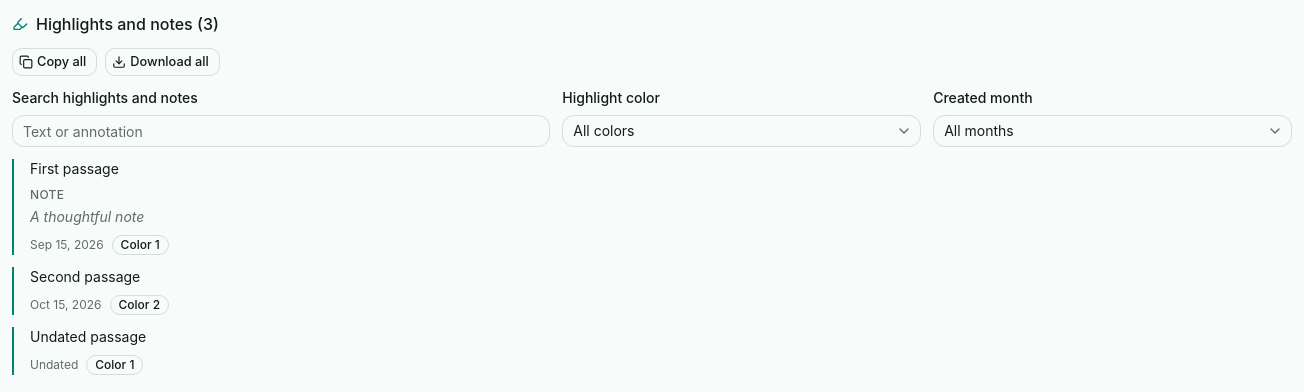
searches annotations and combines color and month filters
In the field labelled "Search highlights and notes": (281, 131) [12, 115, 550, 147], type "THOUGHTFUL"
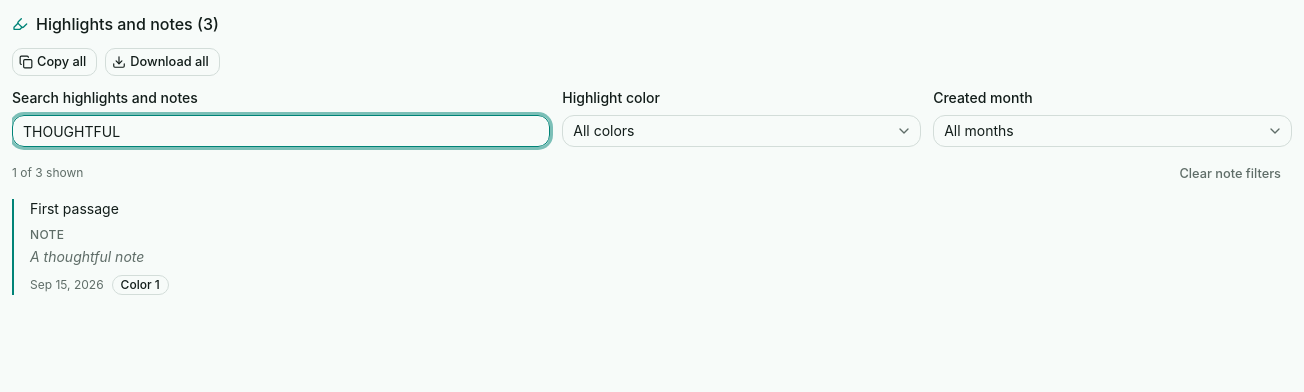
Expected: the text "First passage" is shown, [30, 200, 119, 217]
Now the text "Second passage" is gone
Now the text "1 of 3 shown" is shown, box [12, 165, 83, 181]
Click the button "Clear note filters": click(1230, 173) [1168, 159, 1292, 187]
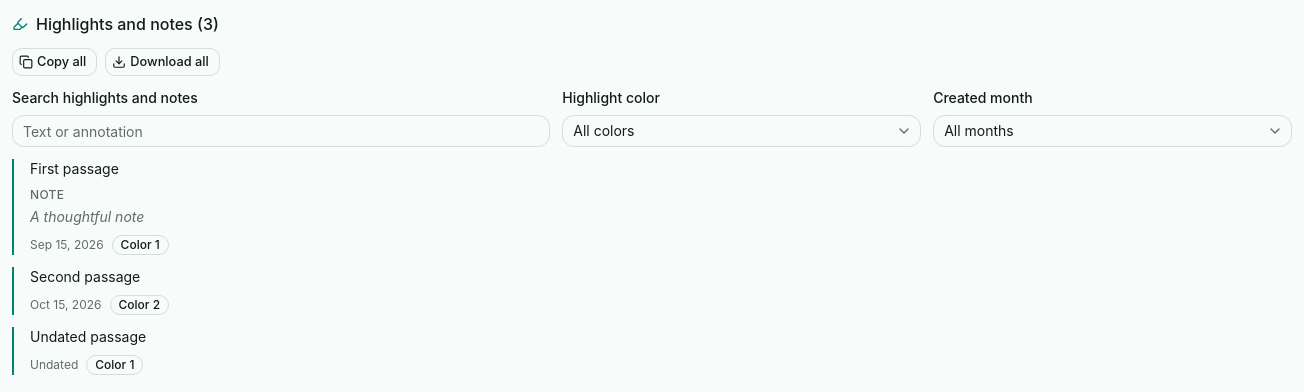
Now the text "Second passage" is shown, box [30, 268, 140, 285]
Click the dropdown named "Highlight color": click(604, 131) [562, 115, 921, 147]
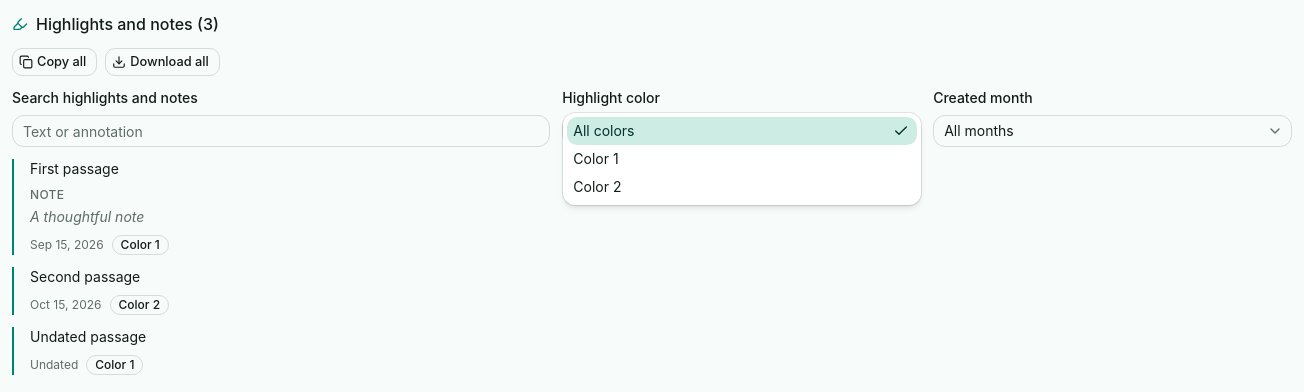
Click the option "Color 1": click(596, 159) [573, 150, 619, 167]
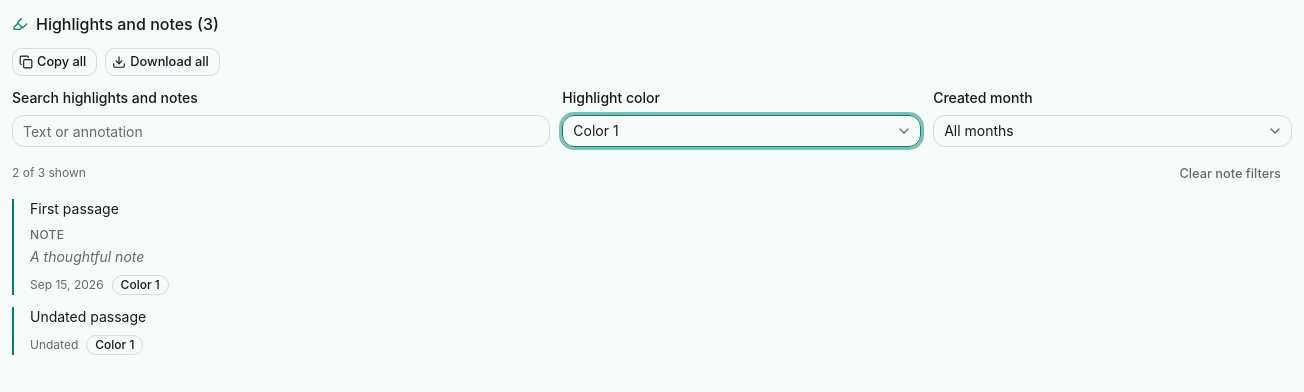
Now the text "2 of 3 shown" is shown, box [12, 165, 86, 181]
Click the dropdown named "Created month": click(979, 131) [933, 115, 1292, 147]
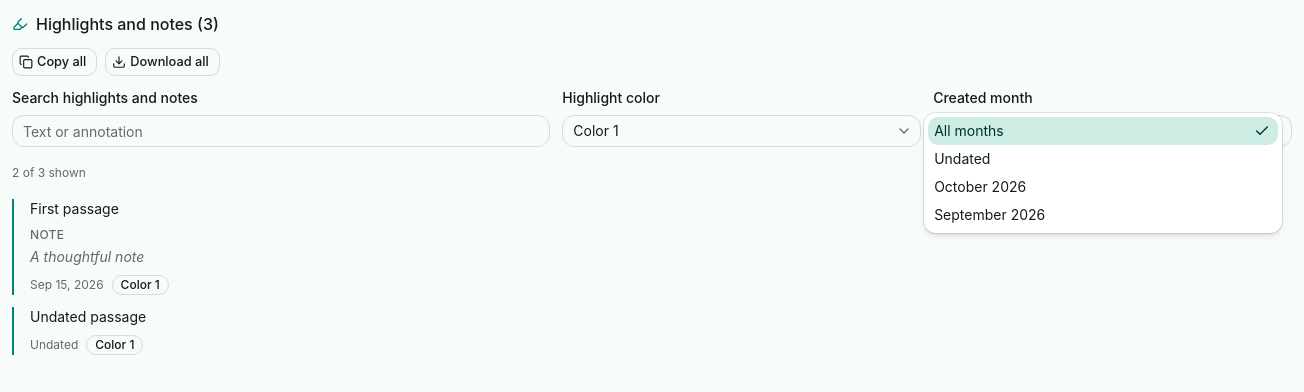
Click the option "Undated": click(962, 159) [934, 150, 990, 167]
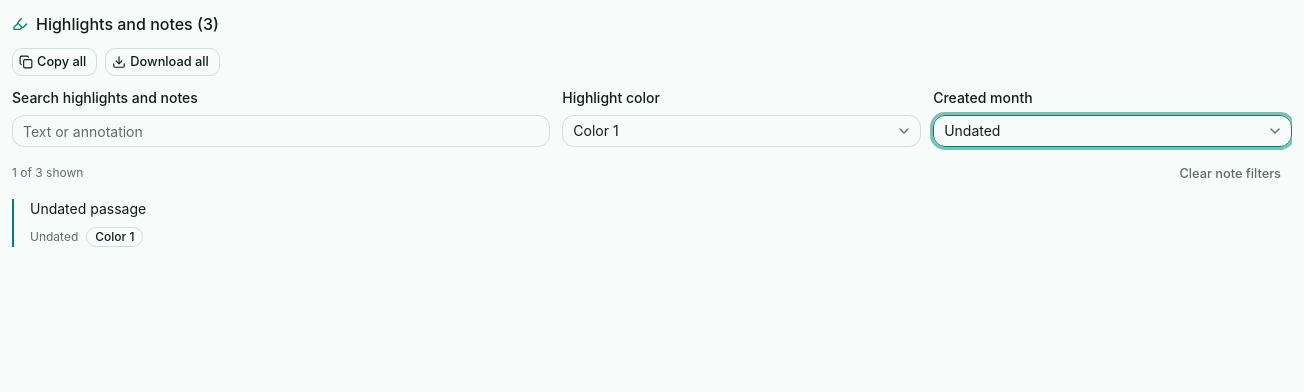
Now the text "Undated passage" is shown, box [30, 200, 146, 217]
Now the text "First passage" is gone
Now the text "1 of 3 shown" is shown, box [12, 165, 83, 181]
